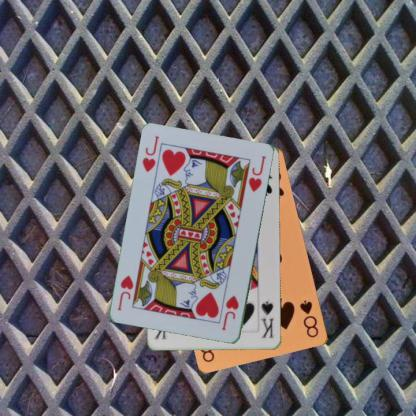8s: (297, 298, 320, 339)
Jh: (140, 134, 163, 178), (219, 294, 240, 332)
Ks: (258, 298, 277, 340)
